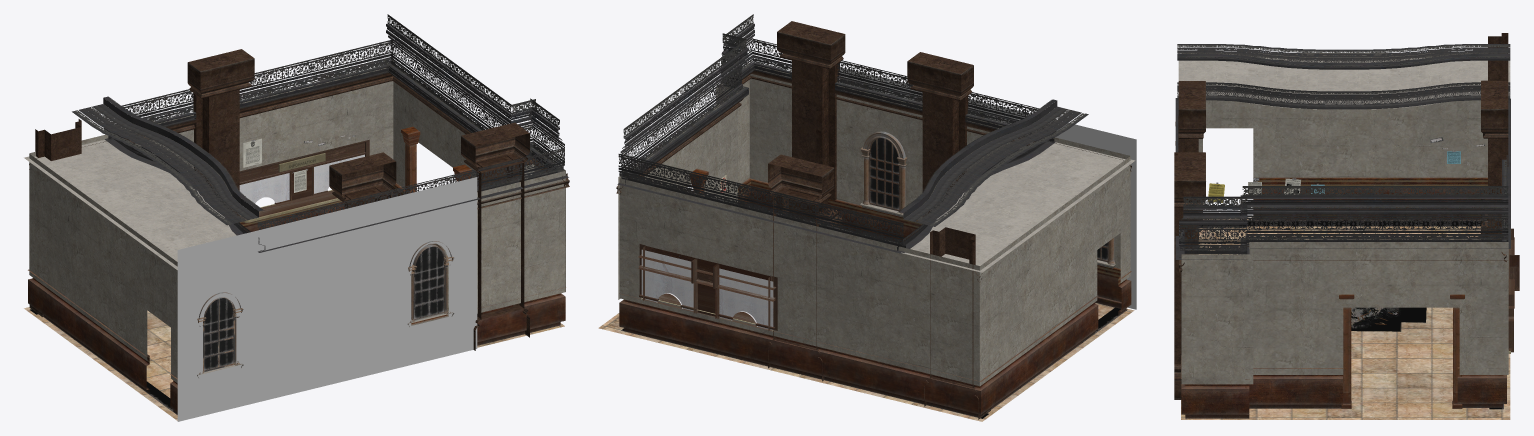
File: st4_202_0_terrain_00ms.fbx
3 renders of one model, left to right at view 1: azimuth 30°, elevation 25°; view 2: azimuth 150°, elevation 25°; view 3: azimuth 270°, elevation 25°, orthographic. The views are drawn at different scales.
Visible parts, largest first — view 1: LOD_1_Group_0_Sub_9__Wall_Mat, LOD_1_Group_0_Sub_1__st4_policeHallWall01_MAT, LOD_1_Group_0_Sub_2__st2_police1fLeftWall04, LOD_1_Group_0_Sub_4__st4_policeHallPillar01_MAT, LOD_1_Group_0_Sub_6__st2_police2fLeftCeiling01, LOD_1_Group_0_Sub_3__st2_police2fLeftWall08, LOD_1_Group_0_Sub_8__st2_police1fLeftWindow01_G, LOD_1_Group_0_Sub_16__st2_208_0_001_st2_208_0_WestOffic_e39f, LOD_1_Group_0_Sub_5__st2_police1fRightFloor03, LOD_1_Group_0_Sub_7__st2_police1fLeftPillar01, LOD_1_Group_0_Sub_15__st2_208_0_001_st2_208_0_WestOffic_18fc, LOD_1_Group_0_Sub_10__st2_policeHallDoorFrame04 (+1 smaller); view 2: LOD_1_Group_0_Sub_1__st4_policeHallWall01_MAT, LOD_1_Group_0_Sub_2__st2_police1fLeftWall04, LOD_1_Group_0_Sub_4__st4_policeHallPillar01_MAT, LOD_1_Group_0_Sub_3__st2_police2fLeftWall08, LOD_1_Group_0_Sub_6__st2_police2fLeftCeiling01, LOD_1_Group_0_Sub_16__st2_208_0_001_st2_208_0_WestOffic_e39f, LOD_1_Group_0_Sub_15__st2_208_0_001_st2_208_0_WestOffic_18fc, LOD_1_Group_0_Sub_9__Wall_Mat, LOD_1_Group_0_Sub_5__st2_police1fRightFloor03, LOD_1_Group_0_Sub_7__st2_police1fLeftPillar01, LOD_1_Group_0_Sub_8__st2_police1fLeftWindow01_G, LOD_1_Group_0_Sub_12__st2_Dirt01; view 3: LOD_1_Group_0_Sub_1__st4_policeHallWall01_MAT, LOD_1_Group_0_Sub_2__st2_police1fLeftWall04, LOD_1_Group_0_Sub_5__st2_police1fRightFloor03, LOD_1_Group_0_Sub_3__st2_police2fLeftWall08, LOD_1_Group_0_Sub_4__st4_policeHallPillar01_MAT, LOD_1_Group_0_Sub_6__st2_police2fLeftCeiling01, LOD_1_Group_0_Sub_12__st2_Dirt01, LOD_1_Group_0_Sub_10__st2_policeHallDoorFrame04, LOD_1_Group_0_Sub_14__st2_police2fLeftProps06, LOD_1_Group_0_Sub_16__st2_208_0_001_st2_208_0_WestOffic_e39f.
Boxes of the visible parts, left/top/right/bottom form: LOD_1_Group_0_Sub_9__Wall_Mat: left=177, top=177, right=477, bottom=421; LOD_1_Group_0_Sub_1__st4_policeHallWall01_MAT: left=29, top=67, right=565, bottom=383; LOD_1_Group_0_Sub_2__st2_police1fLeftWall04: left=72, top=14, right=568, bottom=252; LOD_1_Group_0_Sub_4__st4_policeHallPillar01_MAT: left=29, top=49, right=569, bottom=350; LOD_1_Group_0_Sub_6__st2_police2fLeftCeiling01: left=24, top=139, right=236, bottom=269; LOD_1_Group_0_Sub_3__st2_police2fLeftWall08: left=28, top=183, right=565, bottom=414; LOD_1_Group_0_Sub_8__st2_police1fLeftWindow01_G: left=204, top=246, right=444, bottom=370; LOD_1_Group_0_Sub_16__st2_208_0_001_st2_208_0_WestOffic_e39f: left=239, top=139, right=369, bottom=222; LOD_1_Group_0_Sub_5__st2_police1fRightFloor03: left=24, top=307, right=564, bottom=420; LOD_1_Group_0_Sub_7__st2_police1fLeftPillar01: left=197, top=241, right=454, bottom=377; LOD_1_Group_0_Sub_15__st2_208_0_001_st2_208_0_WestOffic_18fc: left=239, top=154, right=364, bottom=203; LOD_1_Group_0_Sub_10__st2_policeHallDoorFrame04: left=401, top=126, right=471, bottom=193; LOD_1_Group_0_Sub_1__st4_policeHallWall01_MAT: left=618, top=63, right=1130, bottom=386; LOD_1_Group_0_Sub_2__st2_police1fLeftWall04: left=617, top=14, right=1088, bottom=253; LOD_1_Group_0_Sub_4__st4_policeHallPillar01_MAT: left=616, top=21, right=1131, bottom=419; LOD_1_Group_0_Sub_3__st2_police2fLeftWall08: left=619, top=178, right=1131, bottom=417; LOD_1_Group_0_Sub_6__st2_police2fLeftCeiling01: left=901, top=142, right=1135, bottom=272; LOD_1_Group_0_Sub_16__st2_208_0_001_st2_208_0_WestOffic_e39f: left=638, top=244, right=777, bottom=331; LOD_1_Group_0_Sub_15__st2_208_0_001_st2_208_0_WestOffic_18fc: left=641, top=249, right=773, bottom=330; LOD_1_Group_0_Sub_9__Wall_Mat: left=840, top=67, right=1136, bottom=309; LOD_1_Group_0_Sub_5__st2_police1fRightFloor03: left=598, top=303, right=1134, bottom=421; LOD_1_Group_0_Sub_7__st2_police1fLeftPillar01: left=860, top=131, right=1116, bottom=268; LOD_1_Group_0_Sub_8__st2_police1fLeftWindow01_G: left=870, top=138, right=1107, bottom=260; LOD_1_Group_0_Sub_12__st2_Dirt01: left=621, top=307, right=1127, bottom=418; LOD_1_Group_0_Sub_1__st4_policeHallWall01_MAT: left=1181, top=53, right=1508, bottom=384; LOD_1_Group_0_Sub_2__st2_police1fLeftWall04: left=1175, top=44, right=1510, bottom=259; LOD_1_Group_0_Sub_5__st2_police1fRightFloor03: left=1181, top=217, right=1510, bottom=419; LOD_1_Group_0_Sub_3__st2_police2fLeftWall08: left=1181, top=177, right=1506, bottom=418; LOD_1_Group_0_Sub_4__st4_policeHallPillar01_MAT: left=1174, top=33, right=1508, bottom=399; LOD_1_Group_0_Sub_6__st2_police2fLeftCeiling01: left=1178, top=58, right=1510, bottom=109; LOD_1_Group_0_Sub_12__st2_Dirt01: left=1199, top=220, right=1503, bottom=409; LOD_1_Group_0_Sub_10__st2_policeHallDoorFrame04: left=1339, top=294, right=1464, bottom=408; LOD_1_Group_0_Sub_14__st2_police2fLeftProps06: left=1208, top=137, right=1484, bottom=202; LOD_1_Group_0_Sub_16__st2_208_0_001_st2_208_0_WestOffic_e39f: left=1508, top=228, right=1519, bottom=353.
Bounding box in the file's own units: 10.55 × 5.23 × 7.34.
